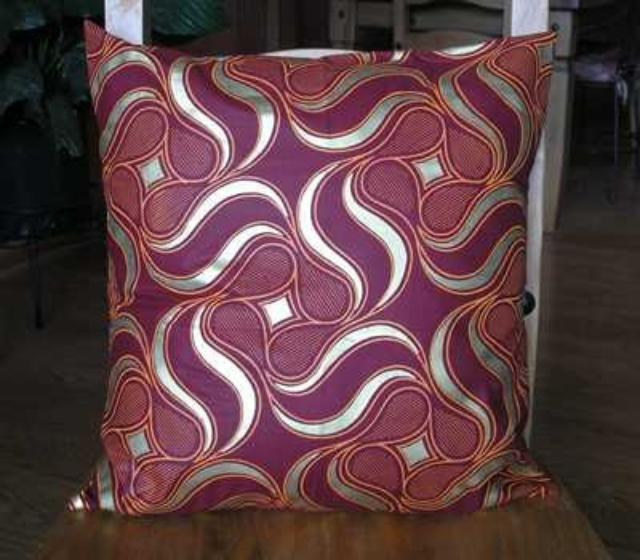pillow: (72, 16, 560, 516)
